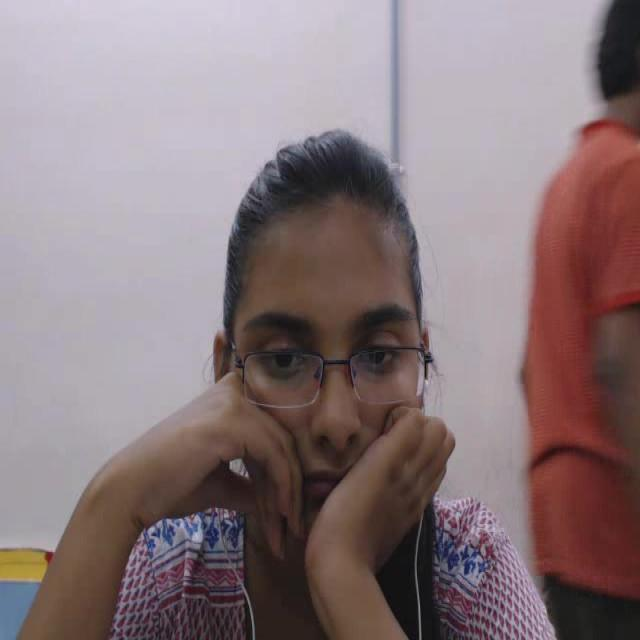Bored: (178, 104, 494, 632)
